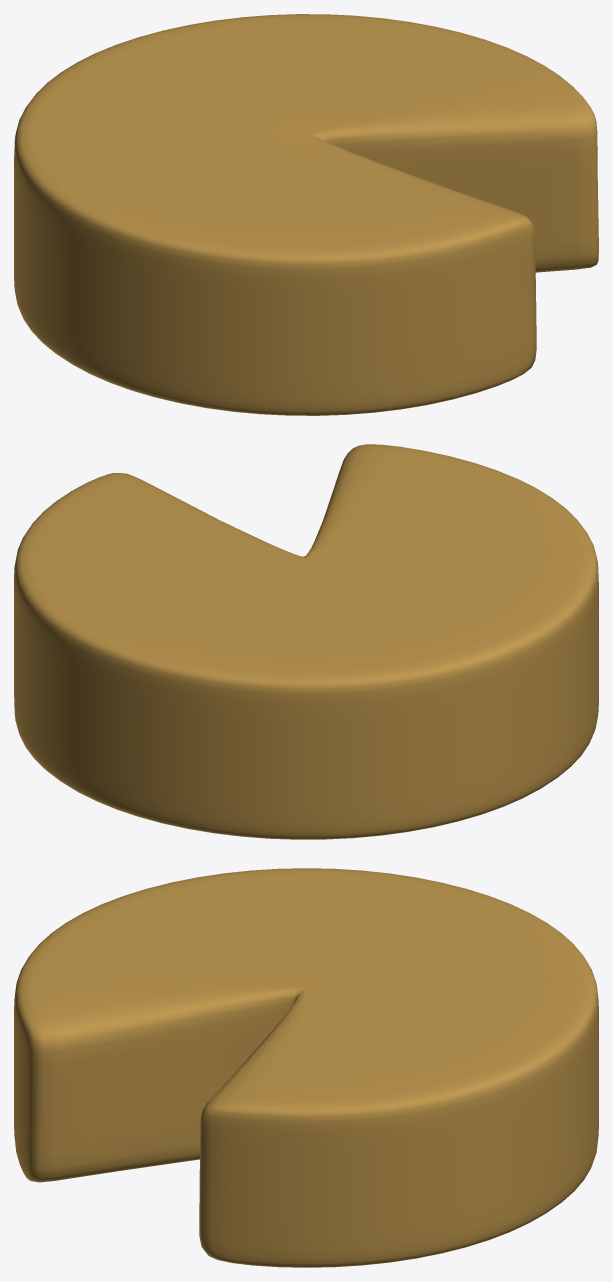
The model's file is cheese.fbx.
The picture shows the model from 3 angles, top to bottom: view 1: azimuth 30°, elevation 25°; view 2: azimuth 150°, elevation 25°; view 3: azimuth 270°, elevation 25°; orthographic projection.
Parts seen in each view (by area): view 1: cheese-4; view 2: cheese-4; view 3: cheese-4.
Boxes of the visible parts, x1,y1,x2,y2 form: cheese-4: (14,14,598,415); cheese-4: (14,444,598,839); cheese-4: (14,868,598,1267).
Size of the model in its own units: 29.48 by 8.94 by 29.48.
